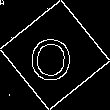O_N: (31, 27, 79, 83)
